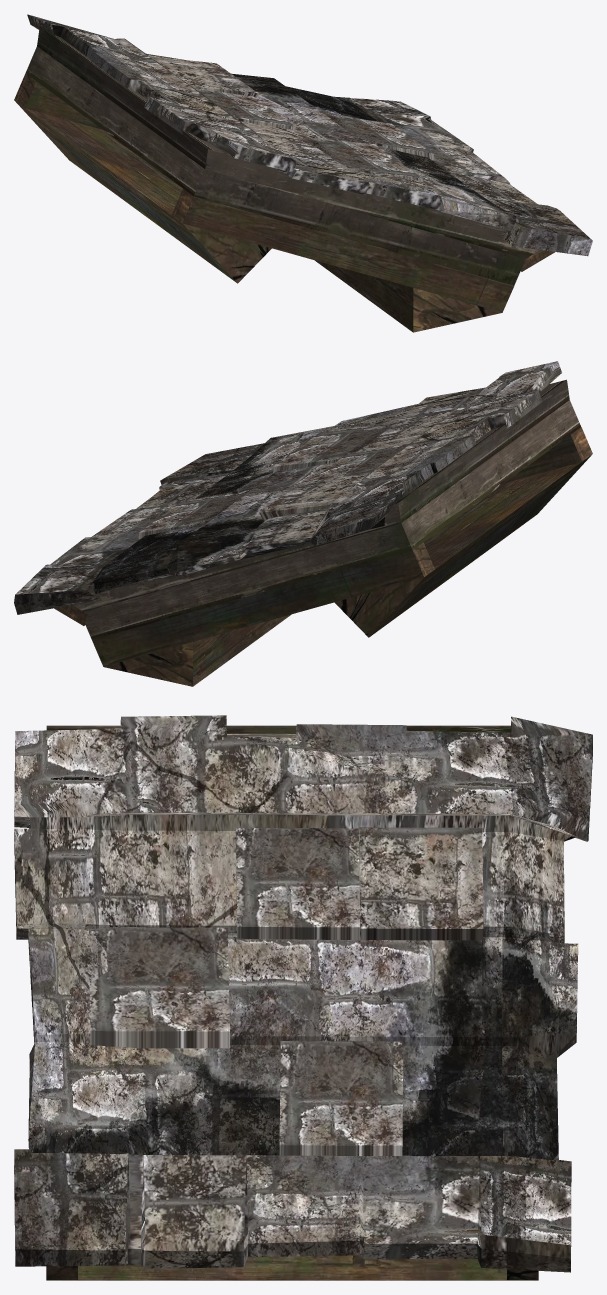
3 renders of one model, top to bottom at view 1: azimuth 30°, elevation 25°; view 2: azimuth 150°, elevation 25°; view 3: azimuth 270°, elevation 25°, orthographic. The views are drawn at different scales.
Parts seen in each view (by area): view 1: SM_T3_Roof_Med_Shallow_LOD0; view 2: SM_T3_Roof_Med_Shallow_LOD0; view 3: SM_T3_Roof_Med_Shallow_LOD0.
Part boxes in pixels (x1=…): SM_T3_Roof_Med_Shallow_LOD0: x1=14, y1=14, x2=592, y2=332; SM_T3_Roof_Med_Shallow_LOD0: x1=14, y1=361, x2=592, y2=686; SM_T3_Roof_Med_Shallow_LOD0: x1=14, y1=715, x2=592, y2=1280.
Bounding box in the file's own units: 2.08 × 1.2 × 1.76.
Materials: 3 (3 with a texture image).
